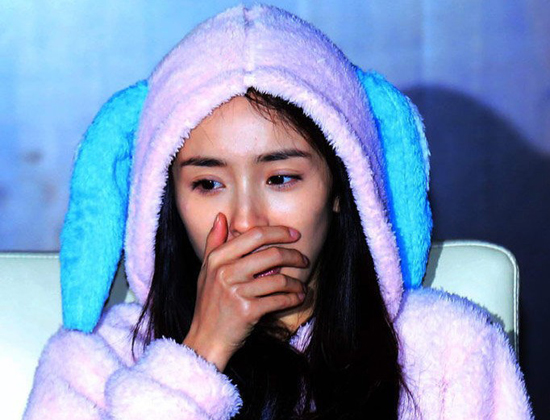face: (178, 104, 321, 310)
